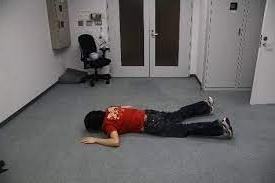fall: (79, 94, 239, 148)
